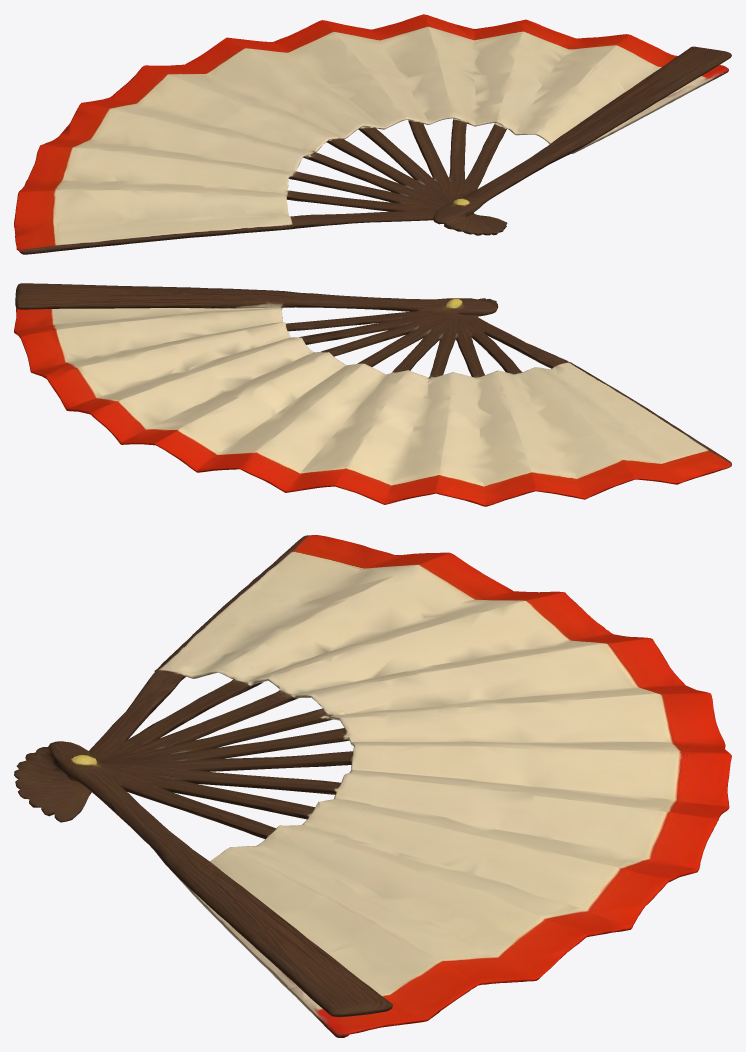
The model's file is fan.glb.
3 renders of one model, top to bottom at view 1: azimuth 30°, elevation 25°; view 2: azimuth 150°, elevation 25°; view 3: azimuth 270°, elevation 25°, orthographic. The views are drawn at different scales.
Parts seen in each view (by area): view 1: tosen_fan; view 2: tosen_fan; view 3: tosen_fan.
Part boxes in pixels (x1,y1,x2,y2): tosen_fan: (14,14,731,254); tosen_fan: (14,283,731,506); tosen_fan: (14,535,731,1037).
Bounding box in the file's own units: 0.3 × 0.014 × 0.182.
1 material, 1 textured.
